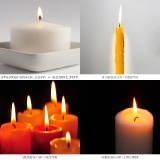fire: (50, 80, 58, 101), (10, 101, 17, 123), (34, 6, 45, 19), (25, 94, 33, 110), (43, 104, 49, 125), (117, 3, 123, 23), (132, 95, 138, 115), (61, 95, 66, 113), (65, 131, 71, 141)
